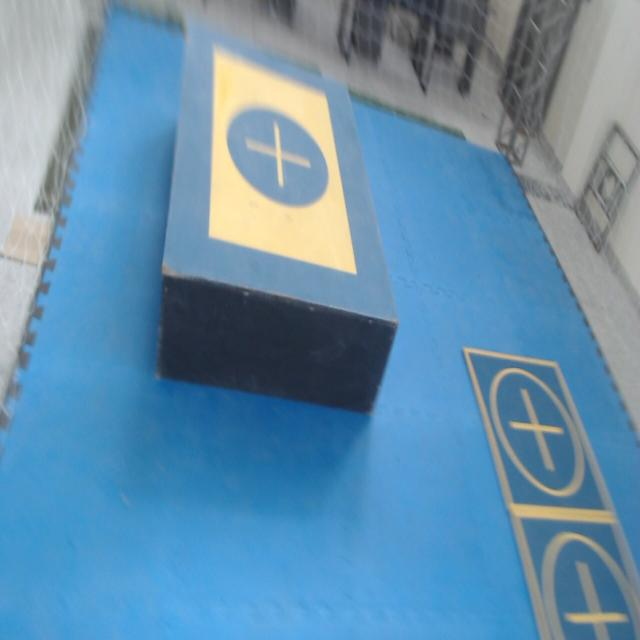base_inicio: (207, 53, 358, 276)
base_pouso: (461, 348, 617, 516), (510, 511, 640, 639)
